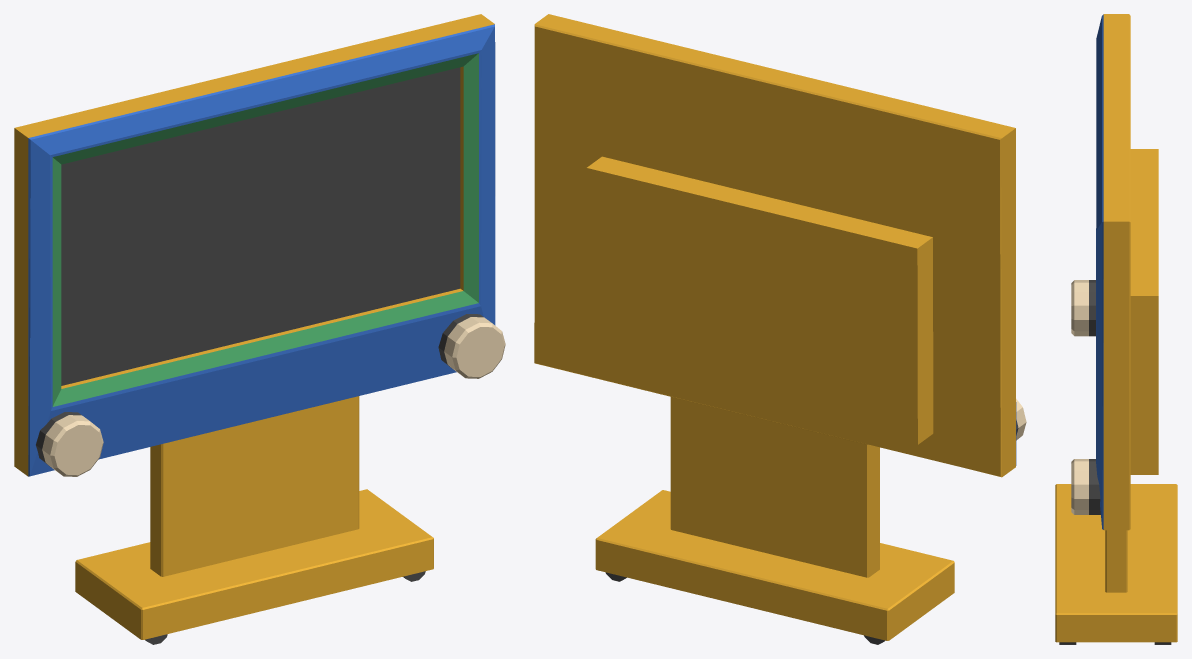
Rendered from Monitor_00.FBX.
3 renders of one model, left to right at view 1: azimuth 30°, elevation 25°; view 2: azimuth 150°, elevation 25°; view 3: azimuth 270°, elevation 25°, orthographic. The views are drawn at different scales.
Parts seen in each view (by area): view 1: Monitor_00, Monitor_Panel_00; view 2: Monitor_00; view 3: Monitor_00.
Boxes of the visible parts, <box> form: Monitor_00: <box>14,14,505,644</box>; Monitor_Panel_00: <box>61,67,460,385</box>; Monitor_00: <box>534,14,1026,644</box>; Monitor_00: <box>1055,14,1177,644</box>.
Bounding box in the file's own units: 2.79 × 2.93 × 0.6937.
